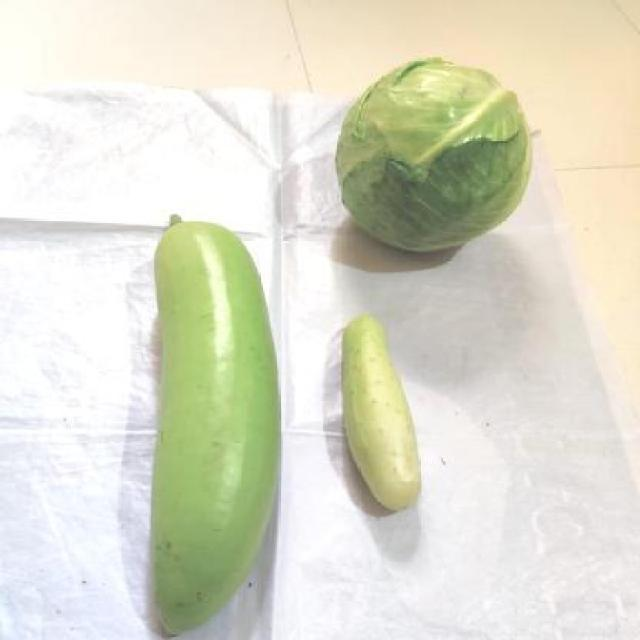Cabbage: (309, 54, 546, 258)
Calabash: (130, 197, 292, 640)
cucumber: (318, 297, 444, 520)
